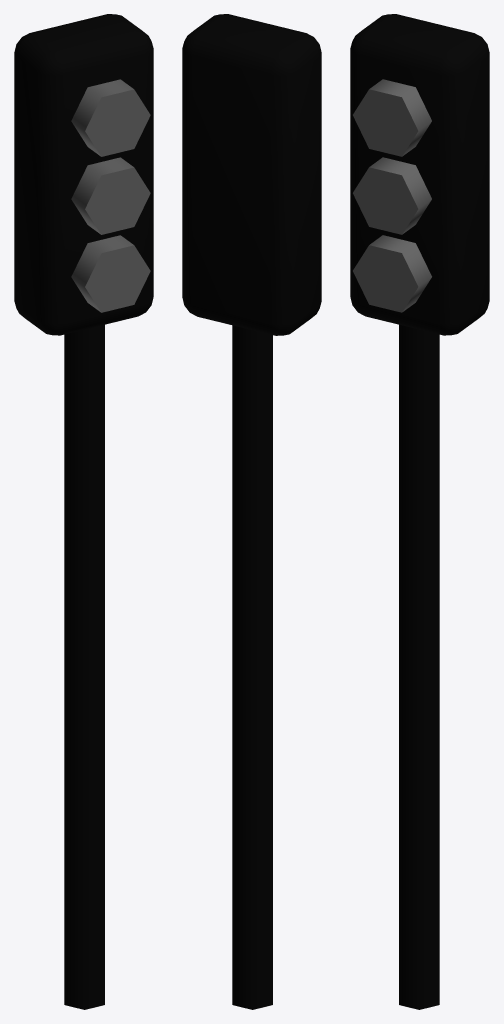
Rendered from traffic_light_1.FBX.
3 renders of one model, left to right at view 1: azimuth 30°, elevation 25°; view 2: azimuth 150°, elevation 25°; view 3: azimuth 330°, elevation 25°, orthographic.
Parts seen in each view (by area): view 1: ChamferBox01; view 2: ChamferBox01; view 3: ChamferBox01.
Boxes of the visible parts, x1,y1,x2,y2 form: ChamferBox01: (14,14,153,1009); ChamferBox01: (182,14,321,1009); ChamferBox01: (350,14,489,1009).
Size of the model in its own units: 20.88 by 17.38 by 170.
